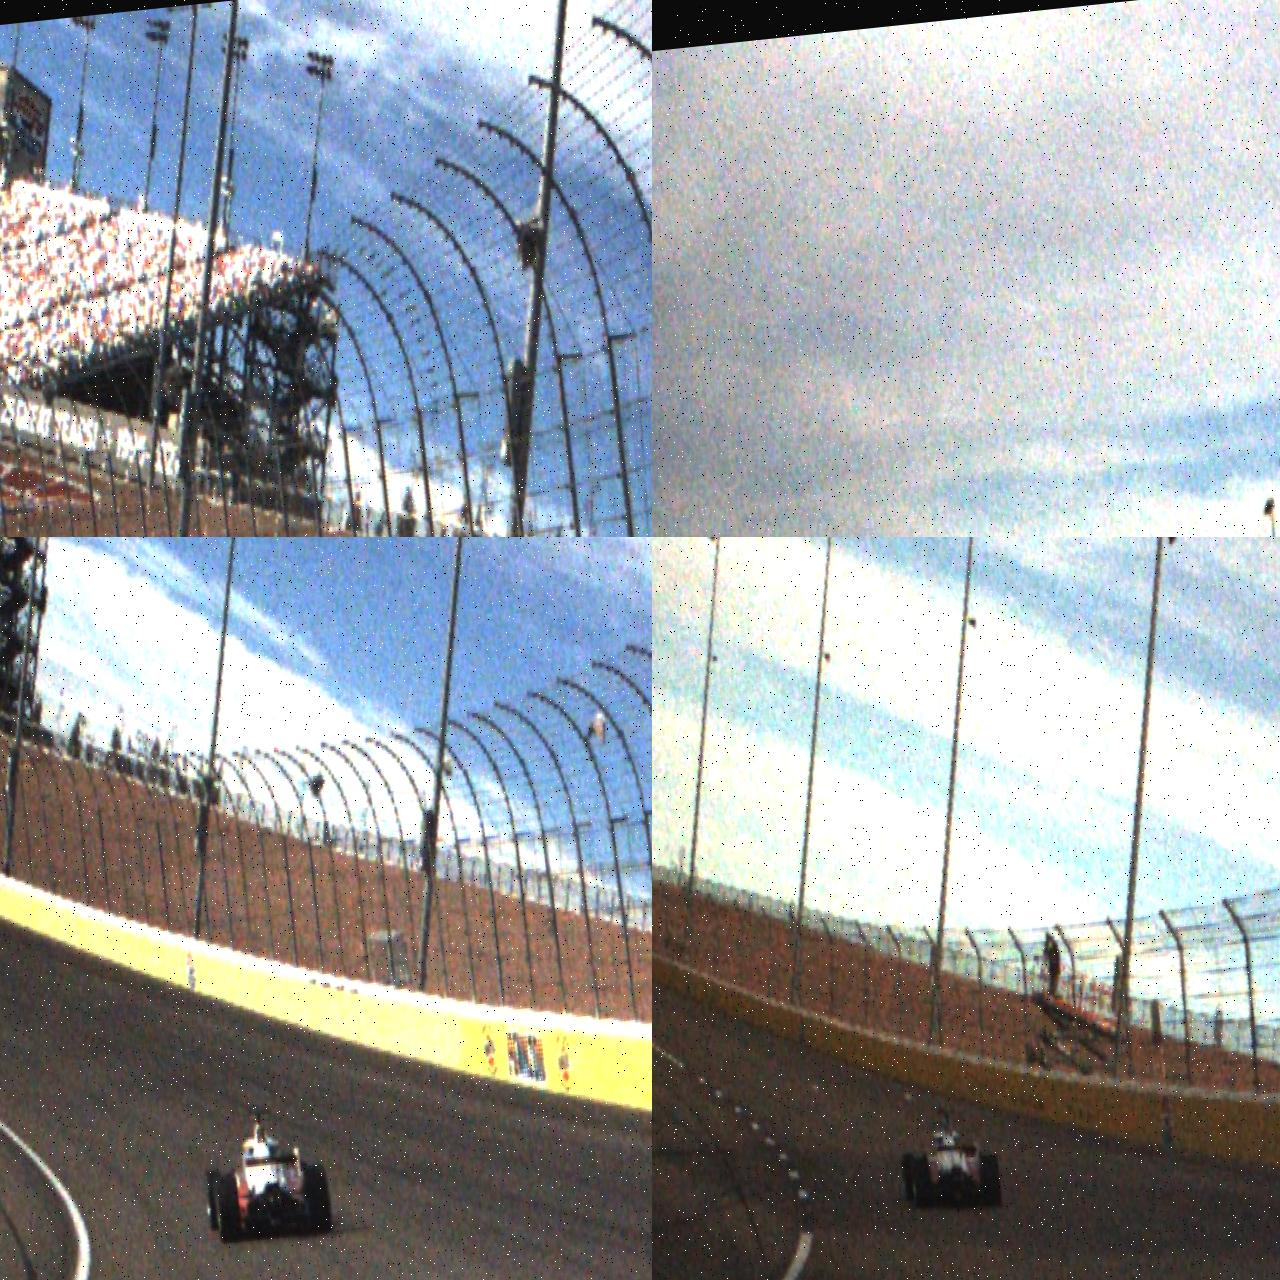AV: (197, 1102, 333, 1246), (893, 1102, 1003, 1218)
Wheel: (302, 1164, 333, 1235), (213, 1173, 243, 1244), (204, 1169, 227, 1231), (980, 1153, 1003, 1208), (911, 1156, 933, 1210), (898, 1152, 919, 1201)
